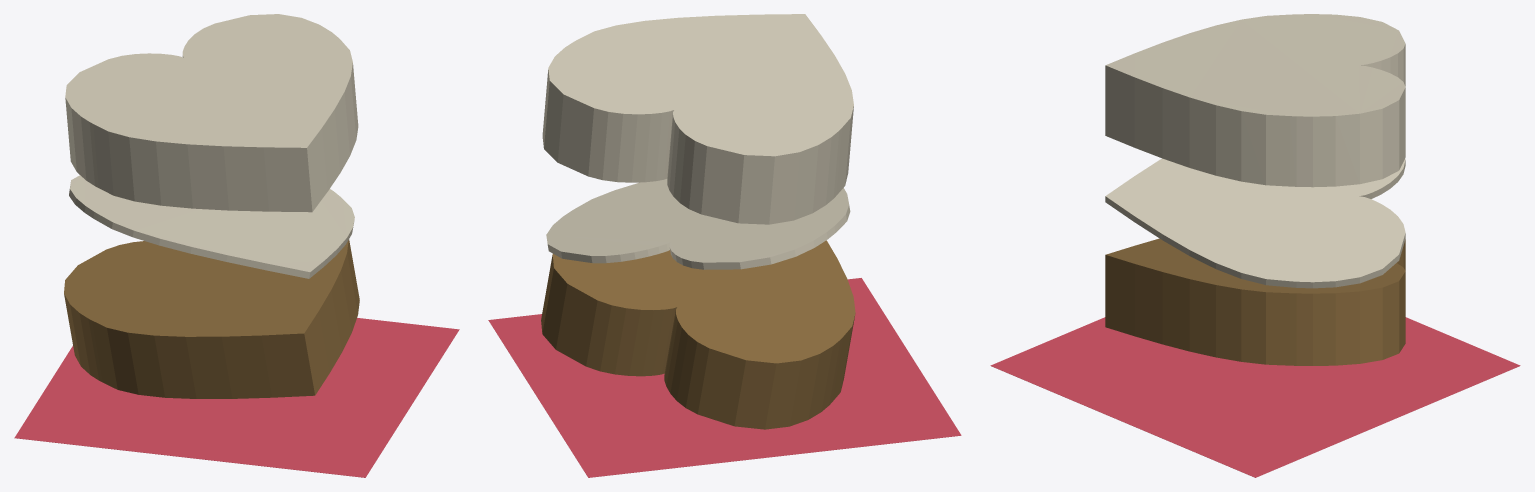
File: CVV.glb
The picture shows the model from 3 angles, left to right: view 1: azimuth 30°, elevation 25°; view 2: azimuth 150°, elevation 25°; view 3: azimuth 270°, elevation 25°; orthographic projection. The views are drawn at different scales.
Parts seen in each view (by area): view 1: Mesh_Mesh_head_geo.001_lambert2SG.001; view 2: Mesh_Mesh_head_geo.001_lambert2SG.001; view 3: Mesh_Mesh_head_geo.001_lambert2SG.001.
Part boxes in pixels (box(x1,y1,x2,y2)): Mesh_Mesh_head_geo.001_lambert2SG.001: box(14, 14, 459, 477); Mesh_Mesh_head_geo.001_lambert2SG.001: box(488, 14, 961, 477); Mesh_Mesh_head_geo.001_lambert2SG.001: box(990, 14, 1520, 477).
Bounding box in the file's own units: 0.0354 × 0.0229 × 0.0354.
